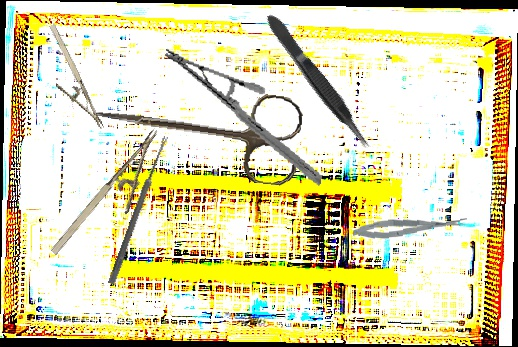Iris Scissors: (87, 73, 305, 188)
Micro Scissor: (352, 214, 468, 241)
Needle Holder: (146, 47, 341, 186), (47, 128, 182, 272), (32, 22, 105, 139)
Surgical Spoon: (107, 134, 170, 286)
Tissue Forceps: (262, 8, 376, 155)
